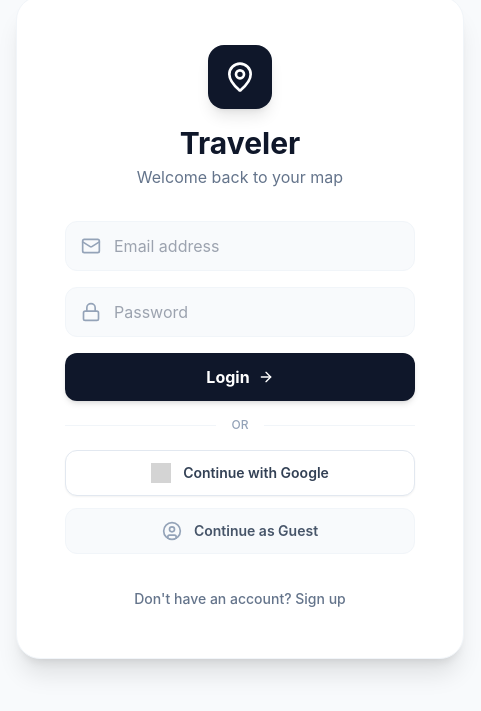
Scenario: Auth Component › switches between Login and Sign Up
Click the button "Don't have an account? Sign up": click(240, 598) [134,588,346,608]
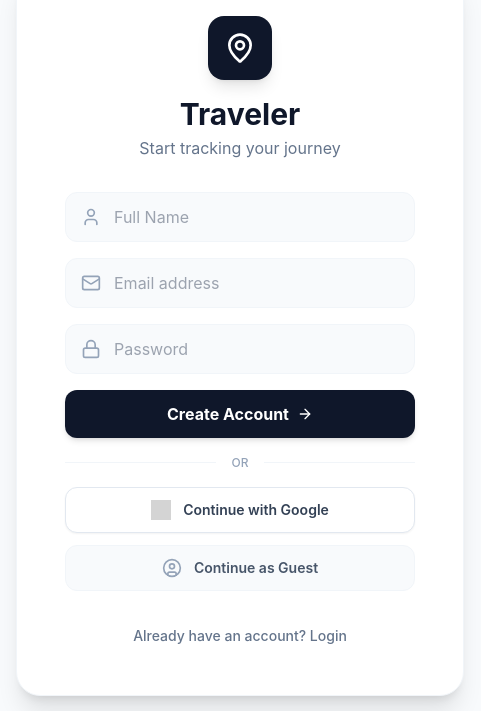
Check: the button "Already have an account? Login" is shown, box [133,626,347,646]
Check: the field with placeholder "Full Name" is shown, box [65,192,415,242]
